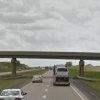Bridge: (5, 40, 89, 66)
